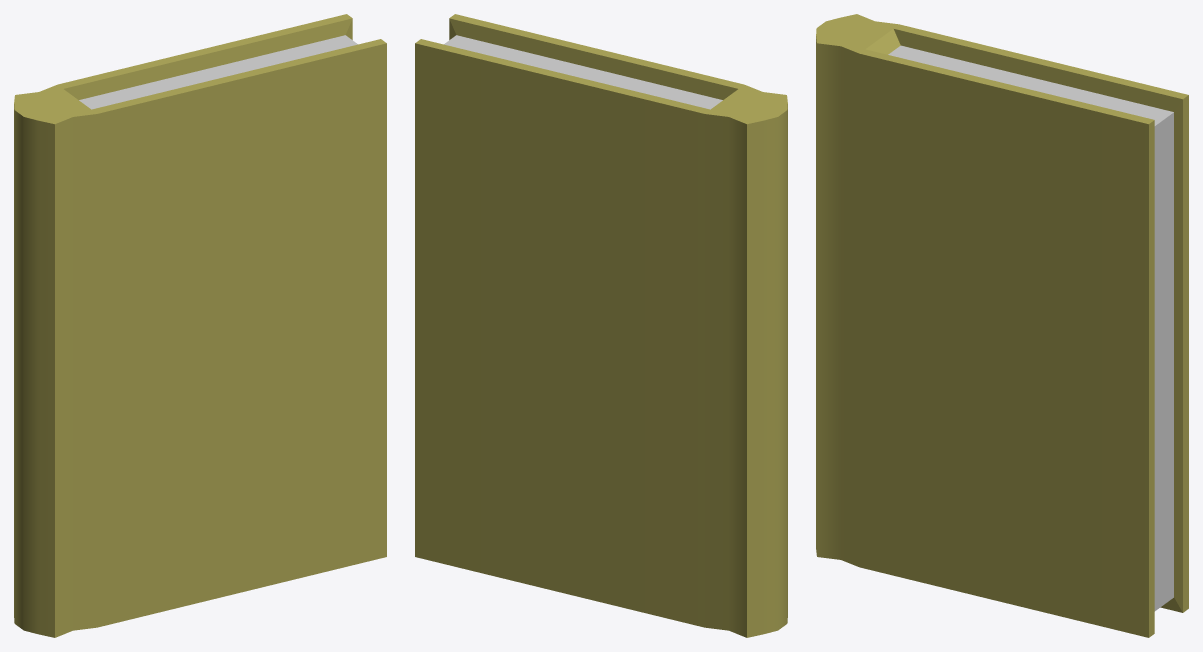
Rendered from book_4.fbx.
3 renders of one model, left to right at view 1: azimuth 30°, elevation 25°; view 2: azimuth 150°, elevation 25°; view 3: azimuth 330°, elevation 25°, orthographic.
Visible parts, largest first — view 1: pCube1; view 2: pCube1; view 3: pCube1.
Part boxes in pixels (left/top/right/bottom): pCube1: left=14, top=14, right=386, bottom=637; pCube1: left=415, top=14, right=787, bottom=637; pCube1: left=816, top=14, right=1188, bottom=637.
Size of the model in its own units: 11.6 by 16.38 by 2.31.
